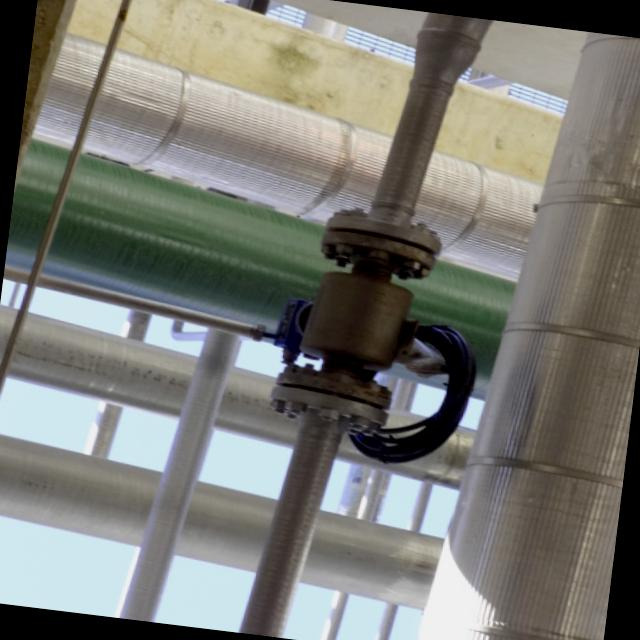gas: (241, 11, 493, 637), (418, 30, 640, 640), (5, 138, 509, 398), (0, 303, 476, 489), (0, 432, 442, 604), (118, 337, 239, 621)
